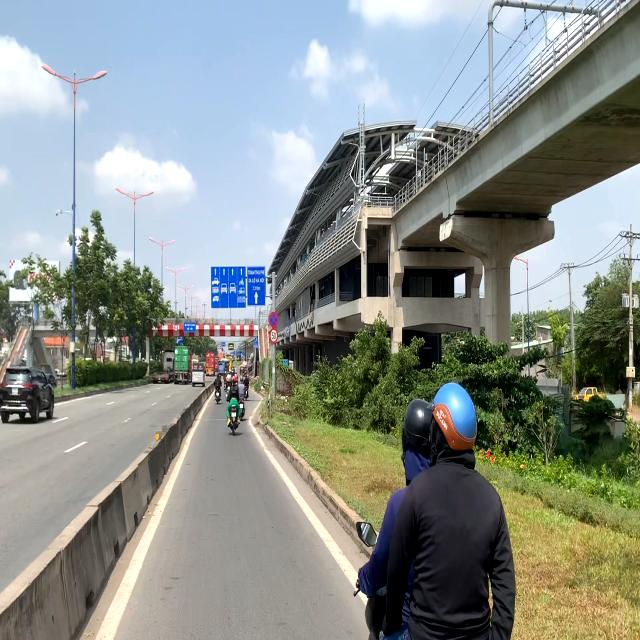P.127: (270, 330, 278, 343)
P.130: (268, 310, 279, 328)
